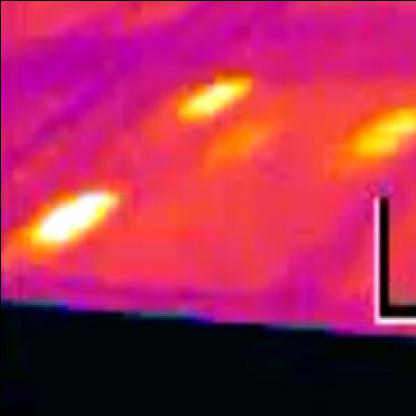Defects: (24, 188, 126, 235), (177, 82, 246, 118), (367, 104, 408, 158)
